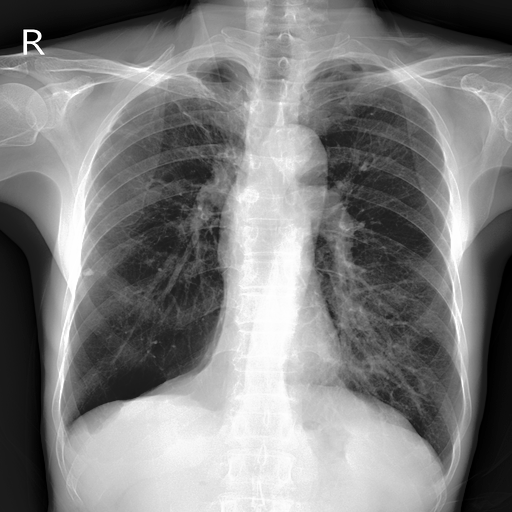Calcification: (150, 52, 218, 86), (102, 111, 125, 135)
Pneumothorax: (153, 63, 233, 133)
Pulmonary fibrosis: (80, 266, 94, 275)
